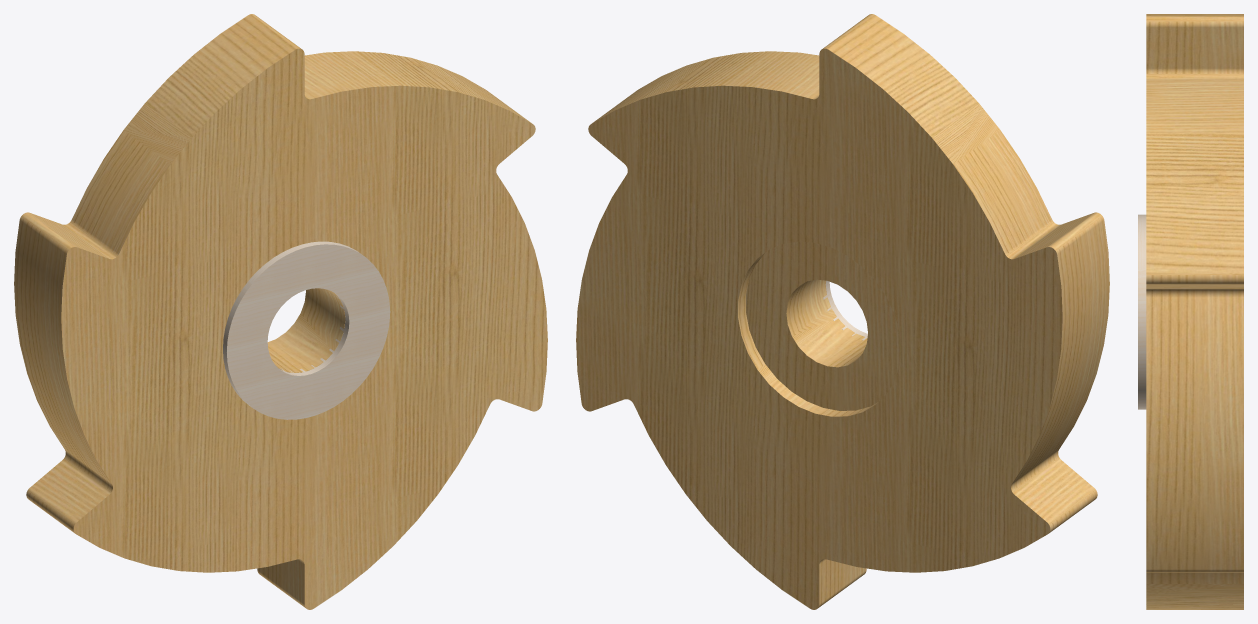
The model's file is Practice45_1.glb.
3 renders of one model, left to right at view 1: azimuth 30°, elevation 25°; view 2: azimuth 150°, elevation 25°; view 3: azimuth 270°, elevation 25°, orthographic. The views are drawn at different scales.
Visible parts, largest first — view 1: Fillet1 - Part, CBORE for M5 Hex Head Bolt1[2] - Part; view 2: Fillet1 - Part; view 3: Fillet1 - Part, CBORE for M5 Hex Head Bolt1[2] - Part.
Boxes of the visible parts, <box> form: Fillet1 - Part: <box>14,14,547,609</box>; CBORE for M5 Hex Head Bolt1[2] - Part: <box>223,241,390,419</box>; Fillet1 - Part: <box>576,14,1109,609</box>; Fillet1 - Part: <box>1146,14,1243,609</box>; CBORE for M5 Hex Head Bolt1[2] - Part: <box>1138,214,1146,409</box>.
Bounding box in the file's own units: 0.0357 × 0.0396 × 0.0065.
Materials: 2 (2 with a texture image).
